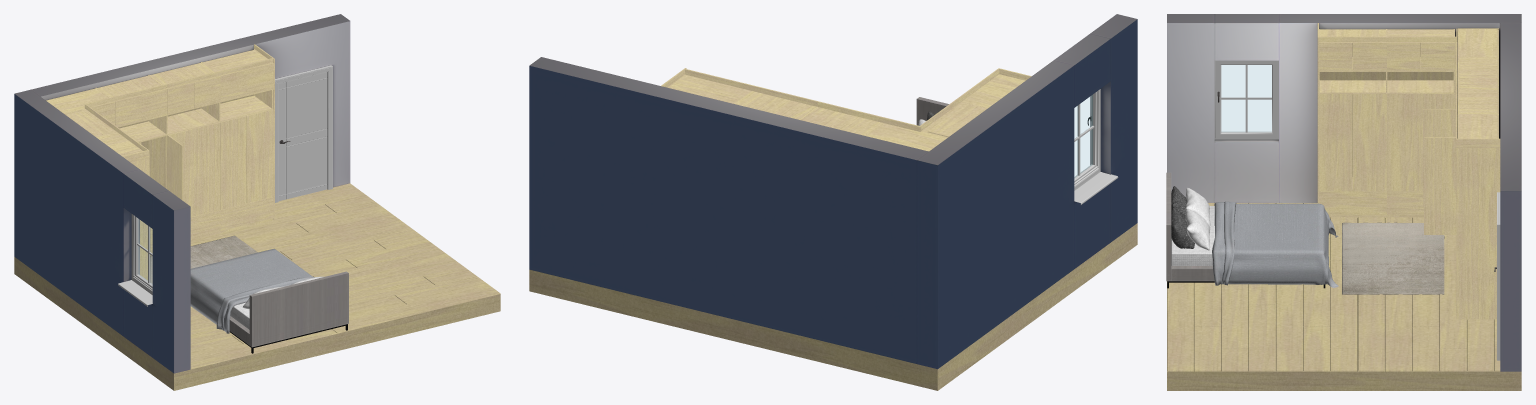
Rendered from dressing_x1.glb.
3 renders of one model, left to right at view 1: azimuth 30°, elevation 25°; view 2: azimuth 150°, elevation 25°; view 3: azimuth 270°, elevation 25°, orthographic. The views are drawn at different scales.
Parts seen in each view (by area): view 1: wall_left, floor, dominant, bed, wall_right, secondary, door_on_wall, carpet, window_frame, door2; view 2: wall_right, wall_left, floor, secondary, dominant, window_frame, bed; view 3: floor, dominant, wall_left, bed, wall_right, secondary, carpet, door2, window_frame, tertiary, door1, door_on_wall.
Part boxes in pixels (<box>): wall_left: <box>14,89,190,373</box>; floor: <box>14,183,500,390</box>; dominant: <box>64,44,274,280</box>; bed: <box>190,248,348,353</box>; wall_right: <box>31,14,350,187</box>; secondary: <box>46,49,272,188</box>; door_on_wall: <box>275,65,332,202</box>; carpet: <box>150,235,257,283</box>; window_frame: <box>118,214,152,306</box>; door2: <box>167,135,183,200</box>; wall_right: <box>529,57,928,363</box>; wall_left: <box>917,14,1137,369</box>; floor: <box>529,223,1137,390</box>; secondary: <box>667,74,1025,151</box>; dominant: <box>661,68,1031,137</box>; window_frame: <box>1074,89,1118,204</box>; bed: <box>916,97,948,125</box>; floor: <box>1167,203,1521,390</box>; dominant: <box>1317,23,1500,319</box>; wall_left: <box>1167,14,1521,203</box>; bed: <box>1166,172,1338,288</box>; wall_right: <box>1500,23,1521,371</box>; secondary: <box>1319,29,1498,203</box>; carpet: <box>1342,222,1444,294</box>; door2: <box>1424,137,1456,234</box>; window_frame: <box>1214,60,1278,139</box>; tertiary: <box>1319,28,1498,176</box>; door1: <box>1423,109,1456,206</box>; door_on_wall: <box>1494,192,1500,360</box>.
Bounding box in the file's own units: 6 × 3.11 × 5.
Materials: 11 (10 with a texture image).
